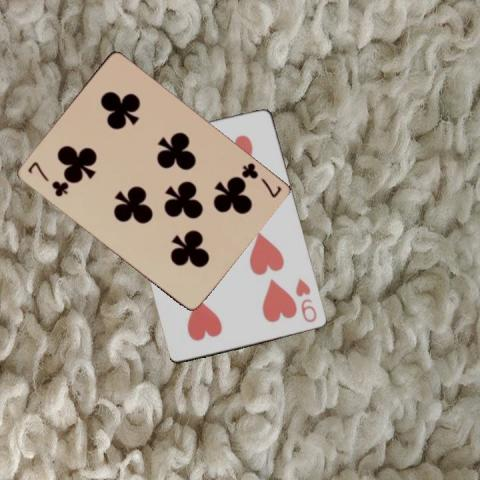7c: (24, 158, 69, 198), (238, 160, 283, 200)
9h: (292, 276, 318, 324)
